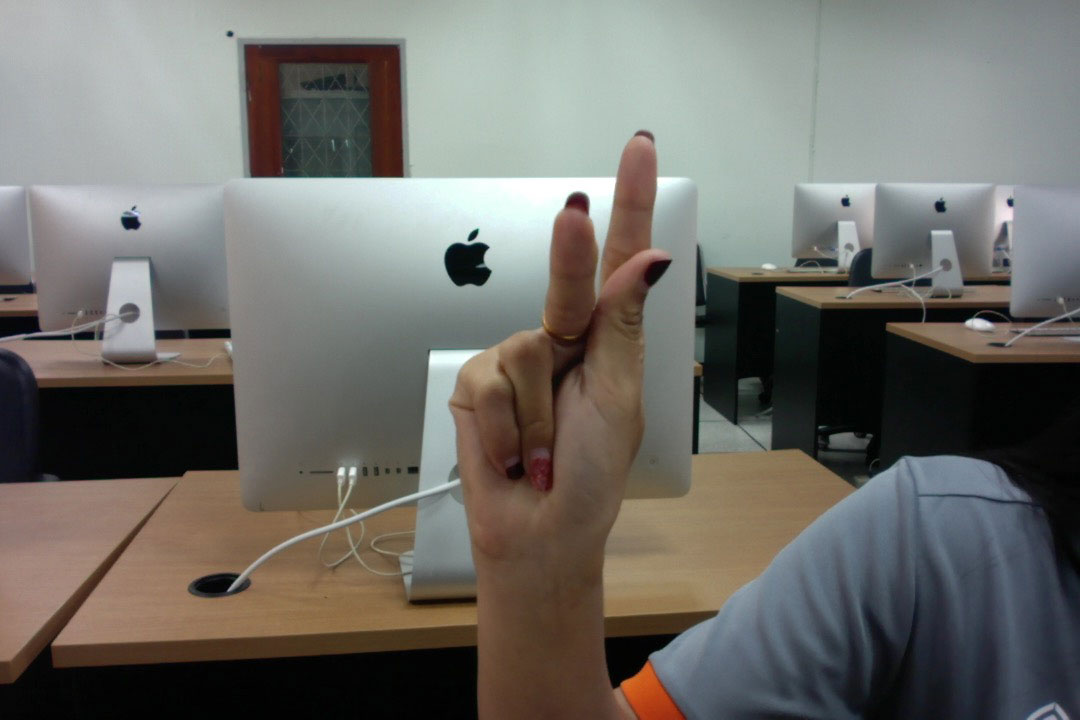ko: (447, 123, 678, 593)
